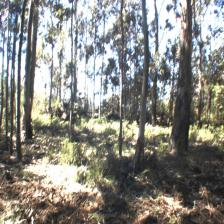trunktrack_idkeyframe: (167, 46, 192, 152), (132, 31, 149, 160), (23, 44, 36, 138), (16, 66, 22, 158), (118, 78, 123, 154)
